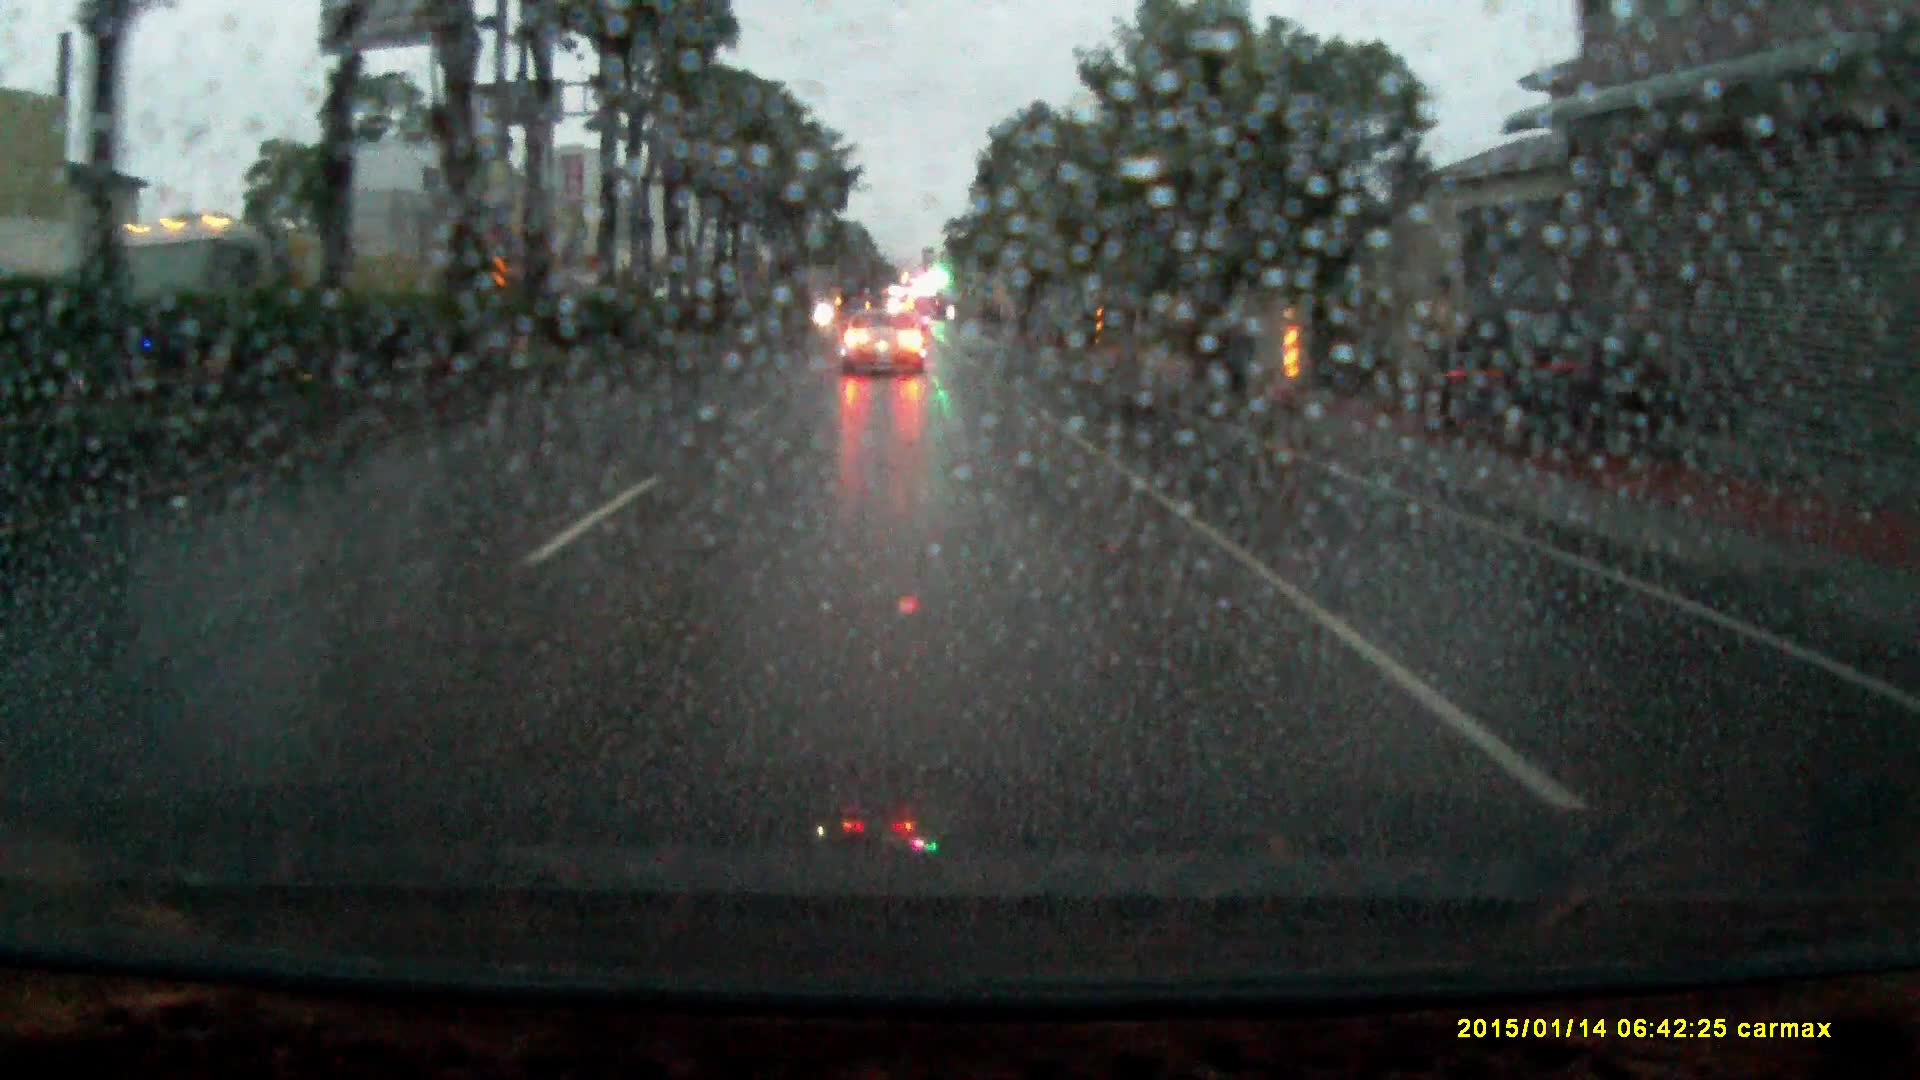vehicle: (98, 214, 419, 369), (1422, 293, 1693, 458), (840, 299, 928, 371)
